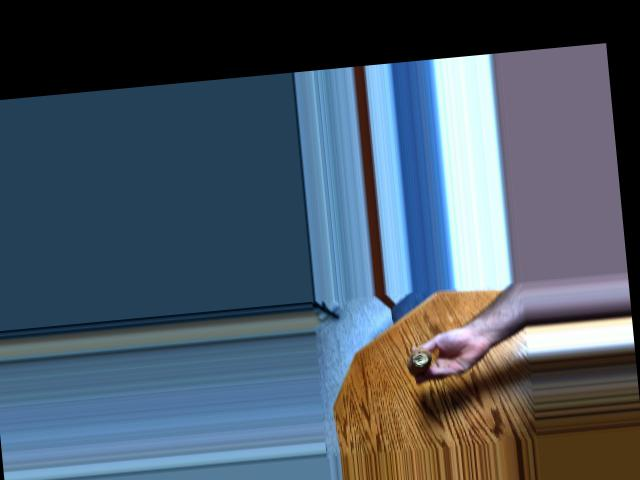sweet_potato: (401, 345, 431, 371)
